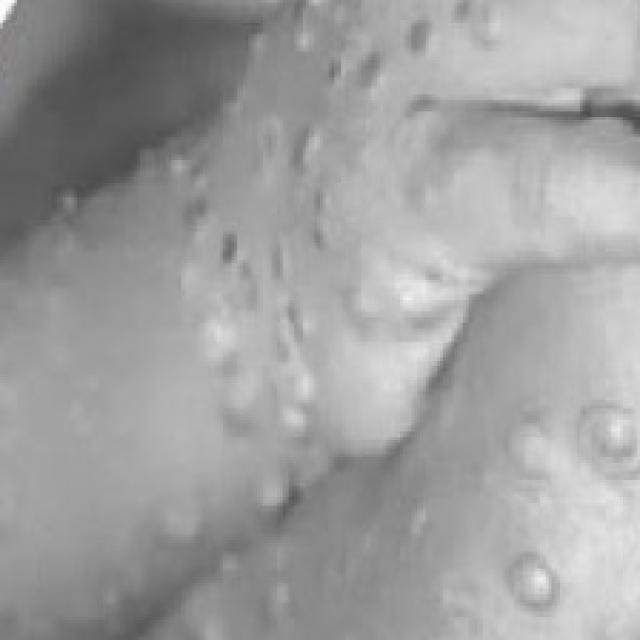Eczema: (45, 11, 630, 604)
